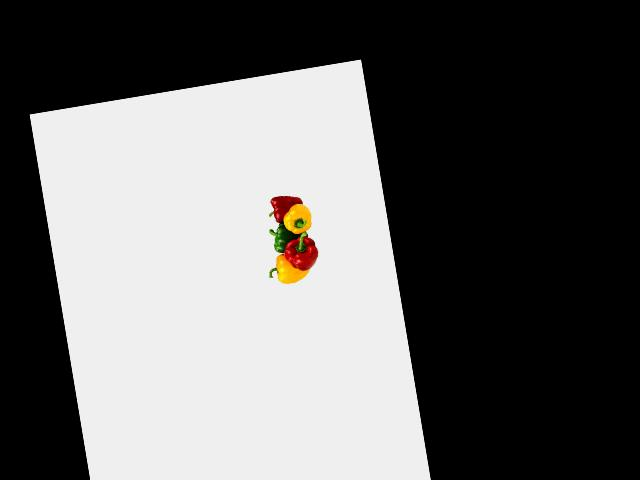bell_pepper: (264, 191, 300, 224)
